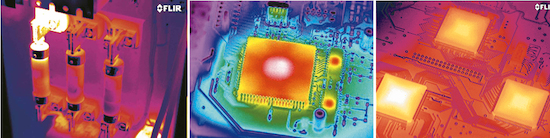componente_T: (238, 36, 318, 113), (489, 76, 550, 136), (433, 5, 491, 58), (377, 70, 423, 130), (26, 6, 68, 65), (265, 2, 292, 28), (133, 118, 165, 138), (328, 50, 344, 73), (322, 92, 338, 114)
